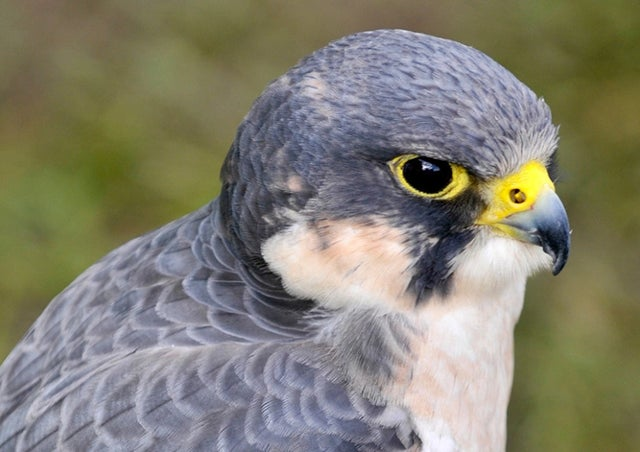Pengoyak Daging: (515, 188, 584, 281)
